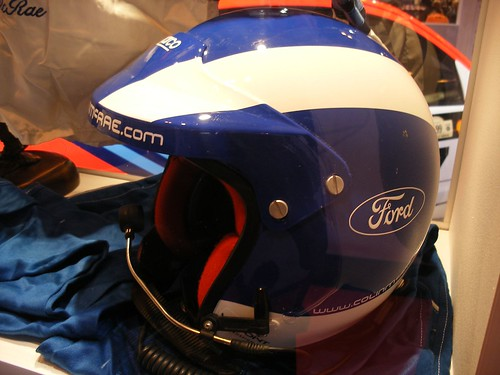helmet: (107, 14, 452, 354)
